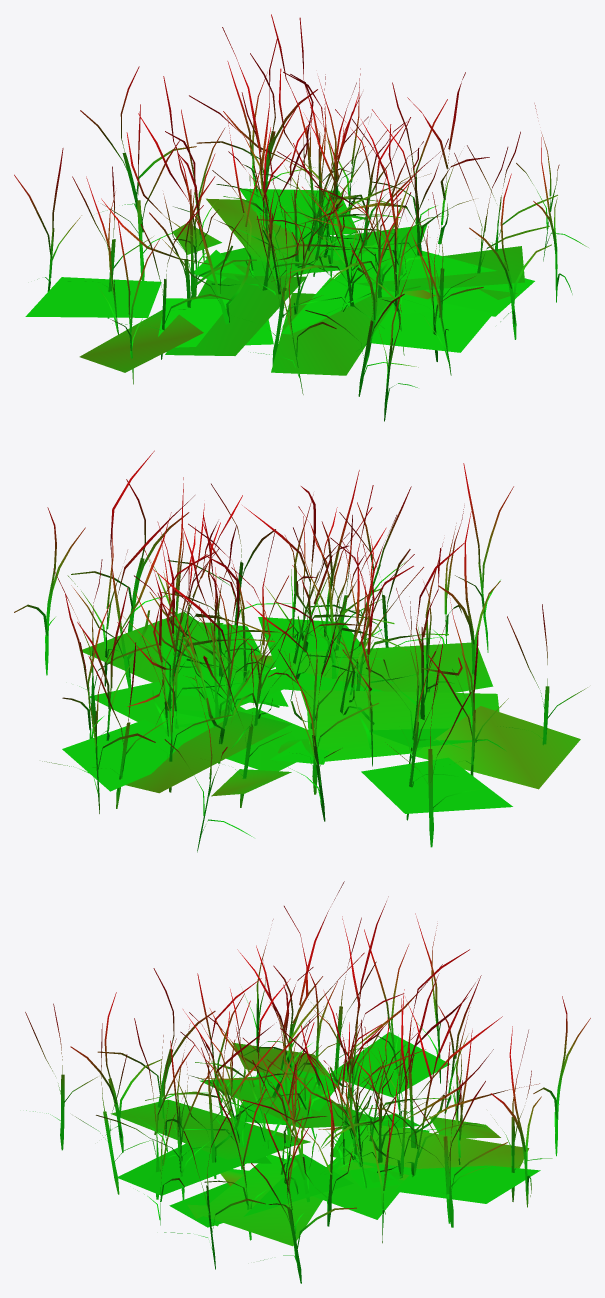
The model's file is Kikuyu Grass_LOD3_Var5_wiljearqx.fbx.
3 renders of one model, top to bottom at view 1: azimuth 30°, elevation 25°; view 2: azimuth 150°, elevation 25°; view 3: azimuth 270°, elevation 25°, orthographic. The views are drawn at different scales.
Visible parts, largest first — view 1: _adqw_Var5_LOD3; view 2: _adqw_Var5_LOD3; view 3: _adqw_Var5_LOD3.
Boxes of the visible parts, x1=… form: _adqw_Var5_LOD3: x1=14, y1=14, x2=588, y2=421; _adqw_Var5_LOD3: x1=14, y1=450, x2=587, y2=852; _adqw_Var5_LOD3: x1=25, y1=881, x2=590, y2=1283.
Bounding box in the file's own units: 72.33 × 33.33 × 75.49.
